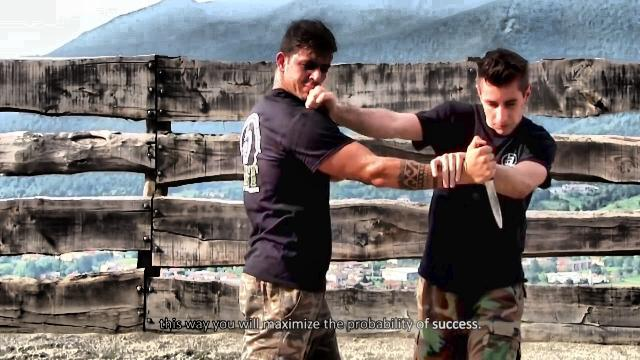knife: (470, 134, 506, 232)
